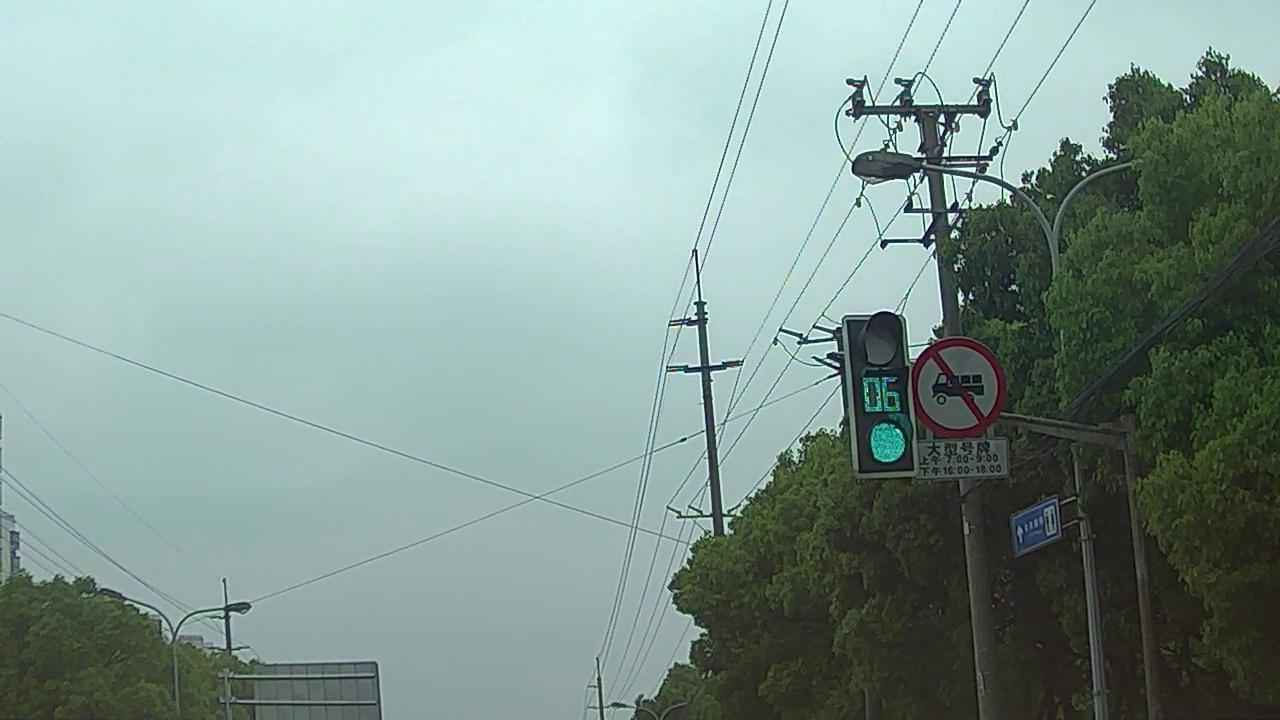traffic_light: (847, 318, 916, 471)
